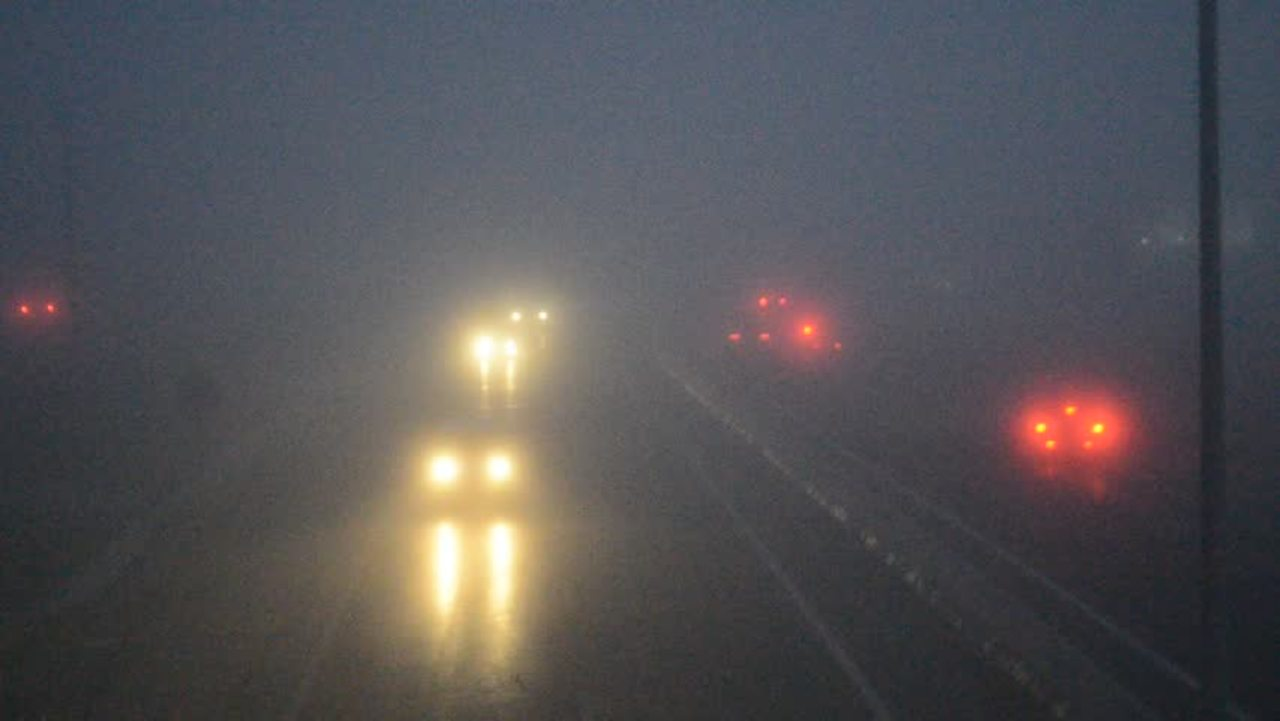car: (421, 407, 518, 498), (464, 317, 521, 359), (722, 315, 773, 350), (508, 290, 547, 327), (801, 326, 844, 357)
truck: (976, 330, 1120, 461)
